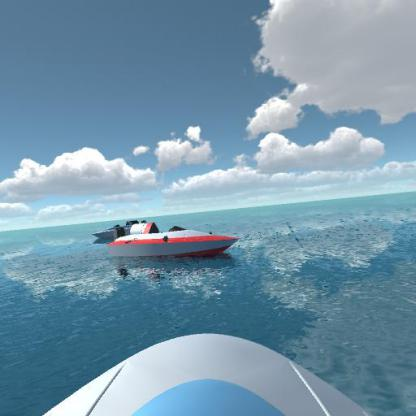usv1: (90, 215, 150, 242)
usv3: (108, 218, 243, 266)
